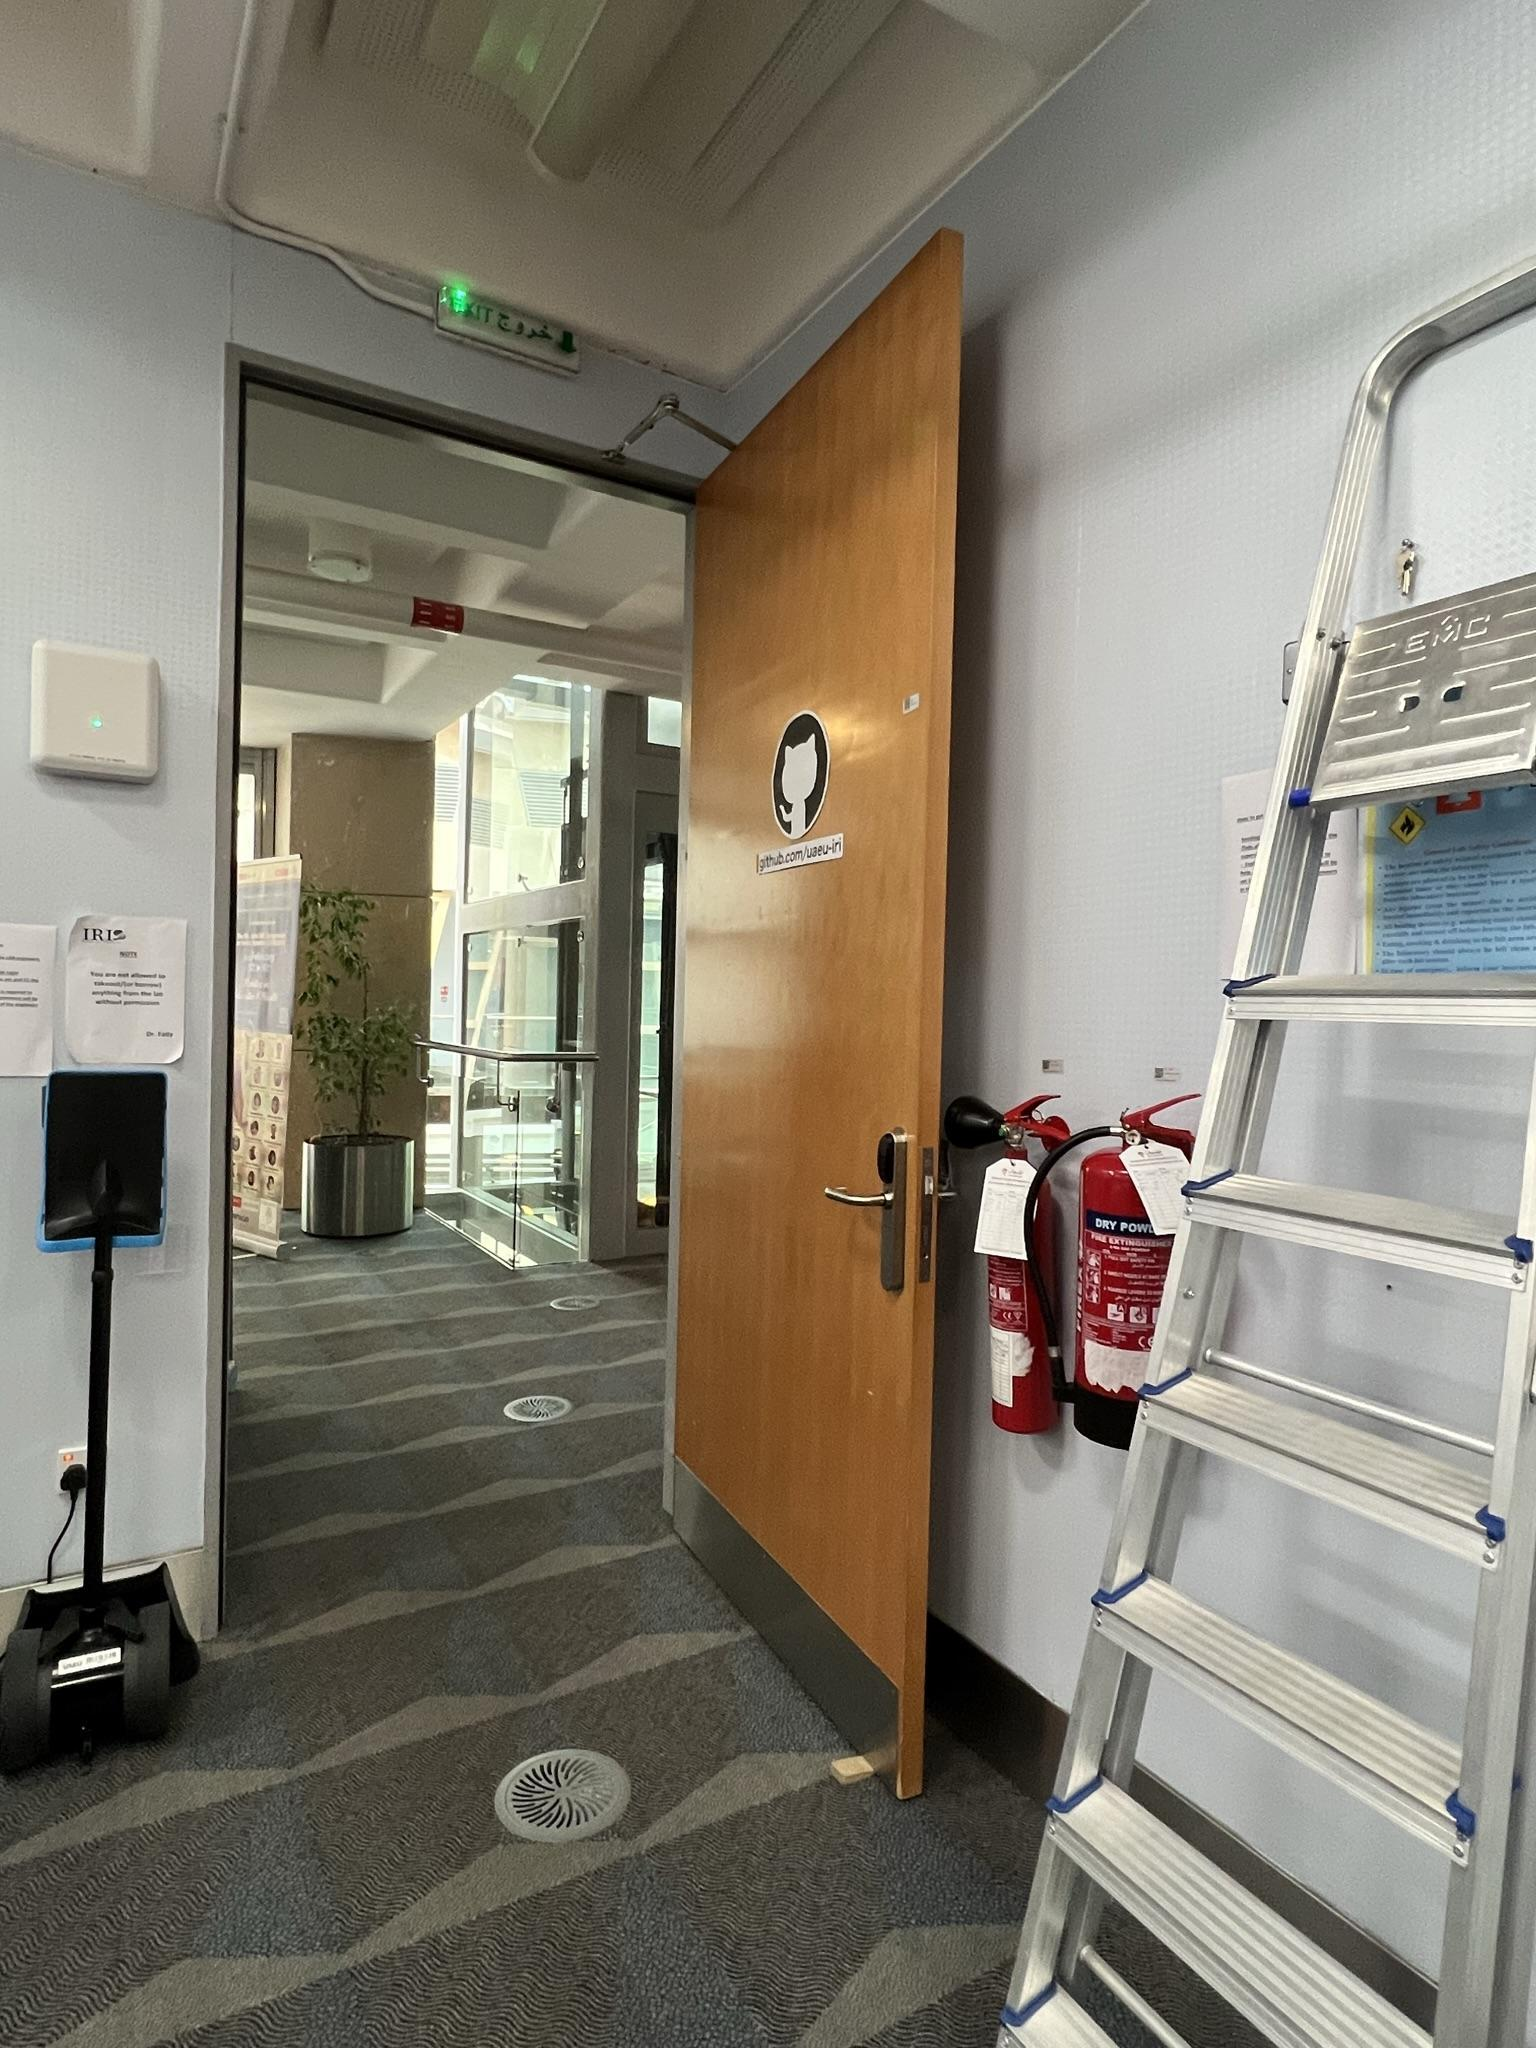door: (682, 297, 962, 1787)
handle: (828, 1121, 925, 1306)
